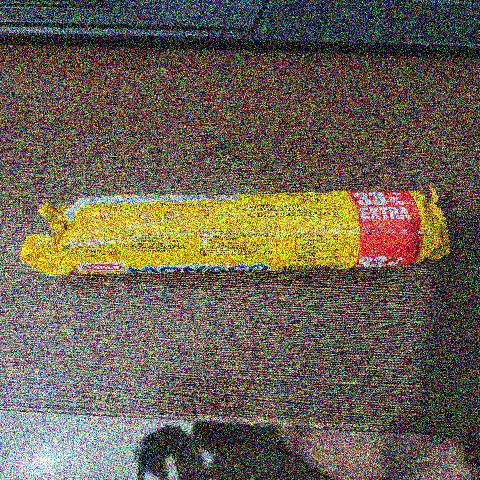monaco: (17, 172, 474, 289)
